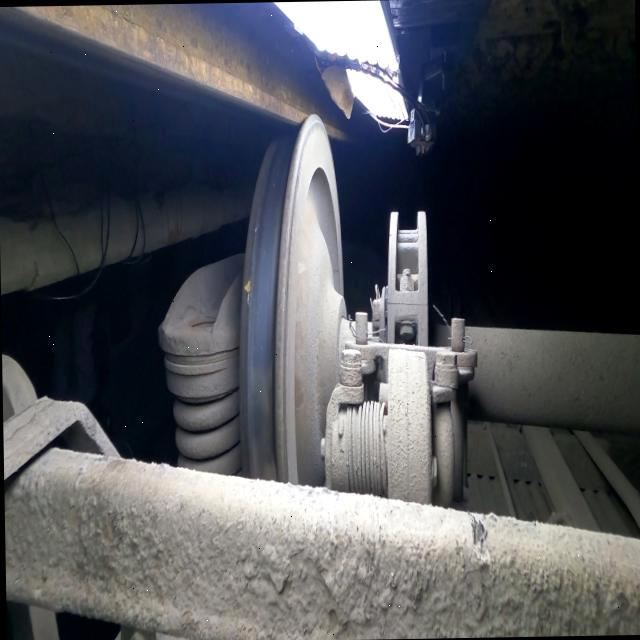Cracks-Scratches: (242, 278, 249, 304)
Shelling: (246, 369, 275, 475)
Wheel: (238, 113, 344, 484)
